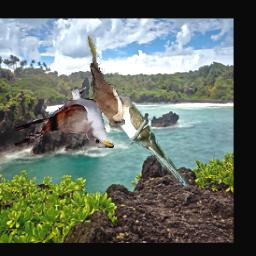Cuckoo: (108, 94, 190, 190), (15, 87, 114, 148), (88, 34, 126, 125)
